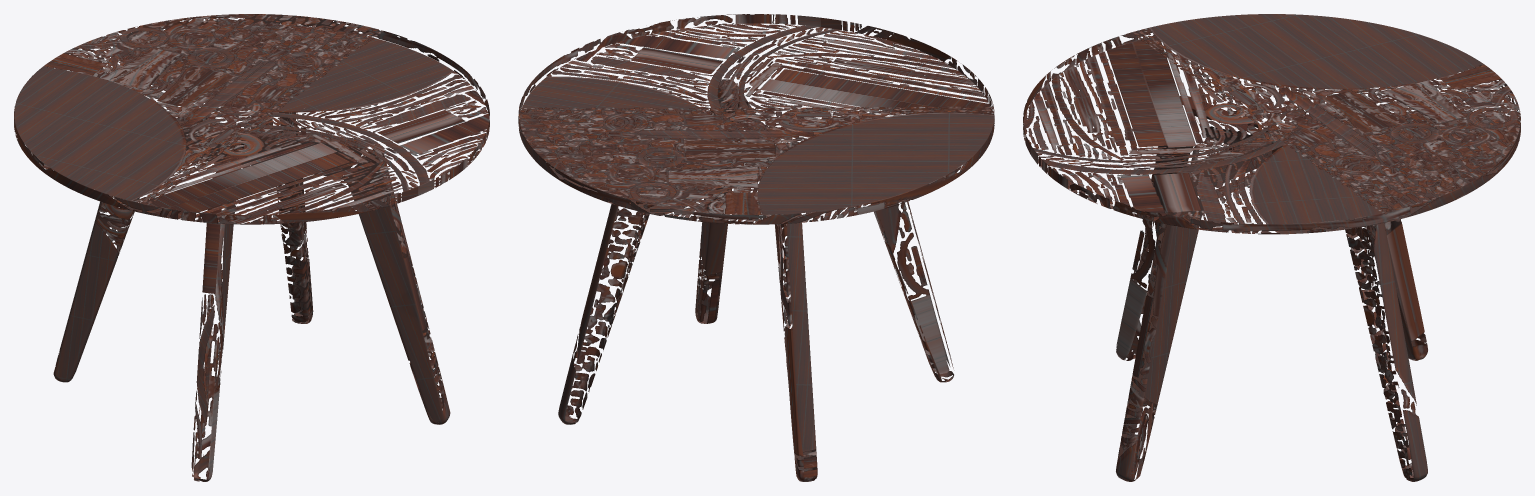
Rendered from raw_model.obj.
The picture shows the model from 3 angles, left to right: view 1: azimuth 30°, elevation 25°; view 2: azimuth 150°, elevation 25°; view 3: azimuth 270°, elevation 25°; orthographic projection. The views are drawn at different scales.
Parts seen in each view (by area): view 1: solid_003, solid_002, solid_001; view 2: solid_003, solid_002, solid_001; view 3: solid_003, solid_002, solid_001.
Part boxes in pixels (x1,y1,x2,y2): solid_003: (14, 14, 489, 224); solid_002: (53, 112, 450, 481); solid_001: (14, 14, 489, 224); solid_003: (518, 23, 994, 224); solid_002: (558, 79, 953, 481); solid_001: (518, 14, 994, 224); solid_003: (1023, 14, 1520, 234); solid_002: (1116, 96, 1427, 481); solid_001: (1023, 28, 1520, 234).
Bounding box in the file's own units: 1.16 × 0.7712 × 1.16.
